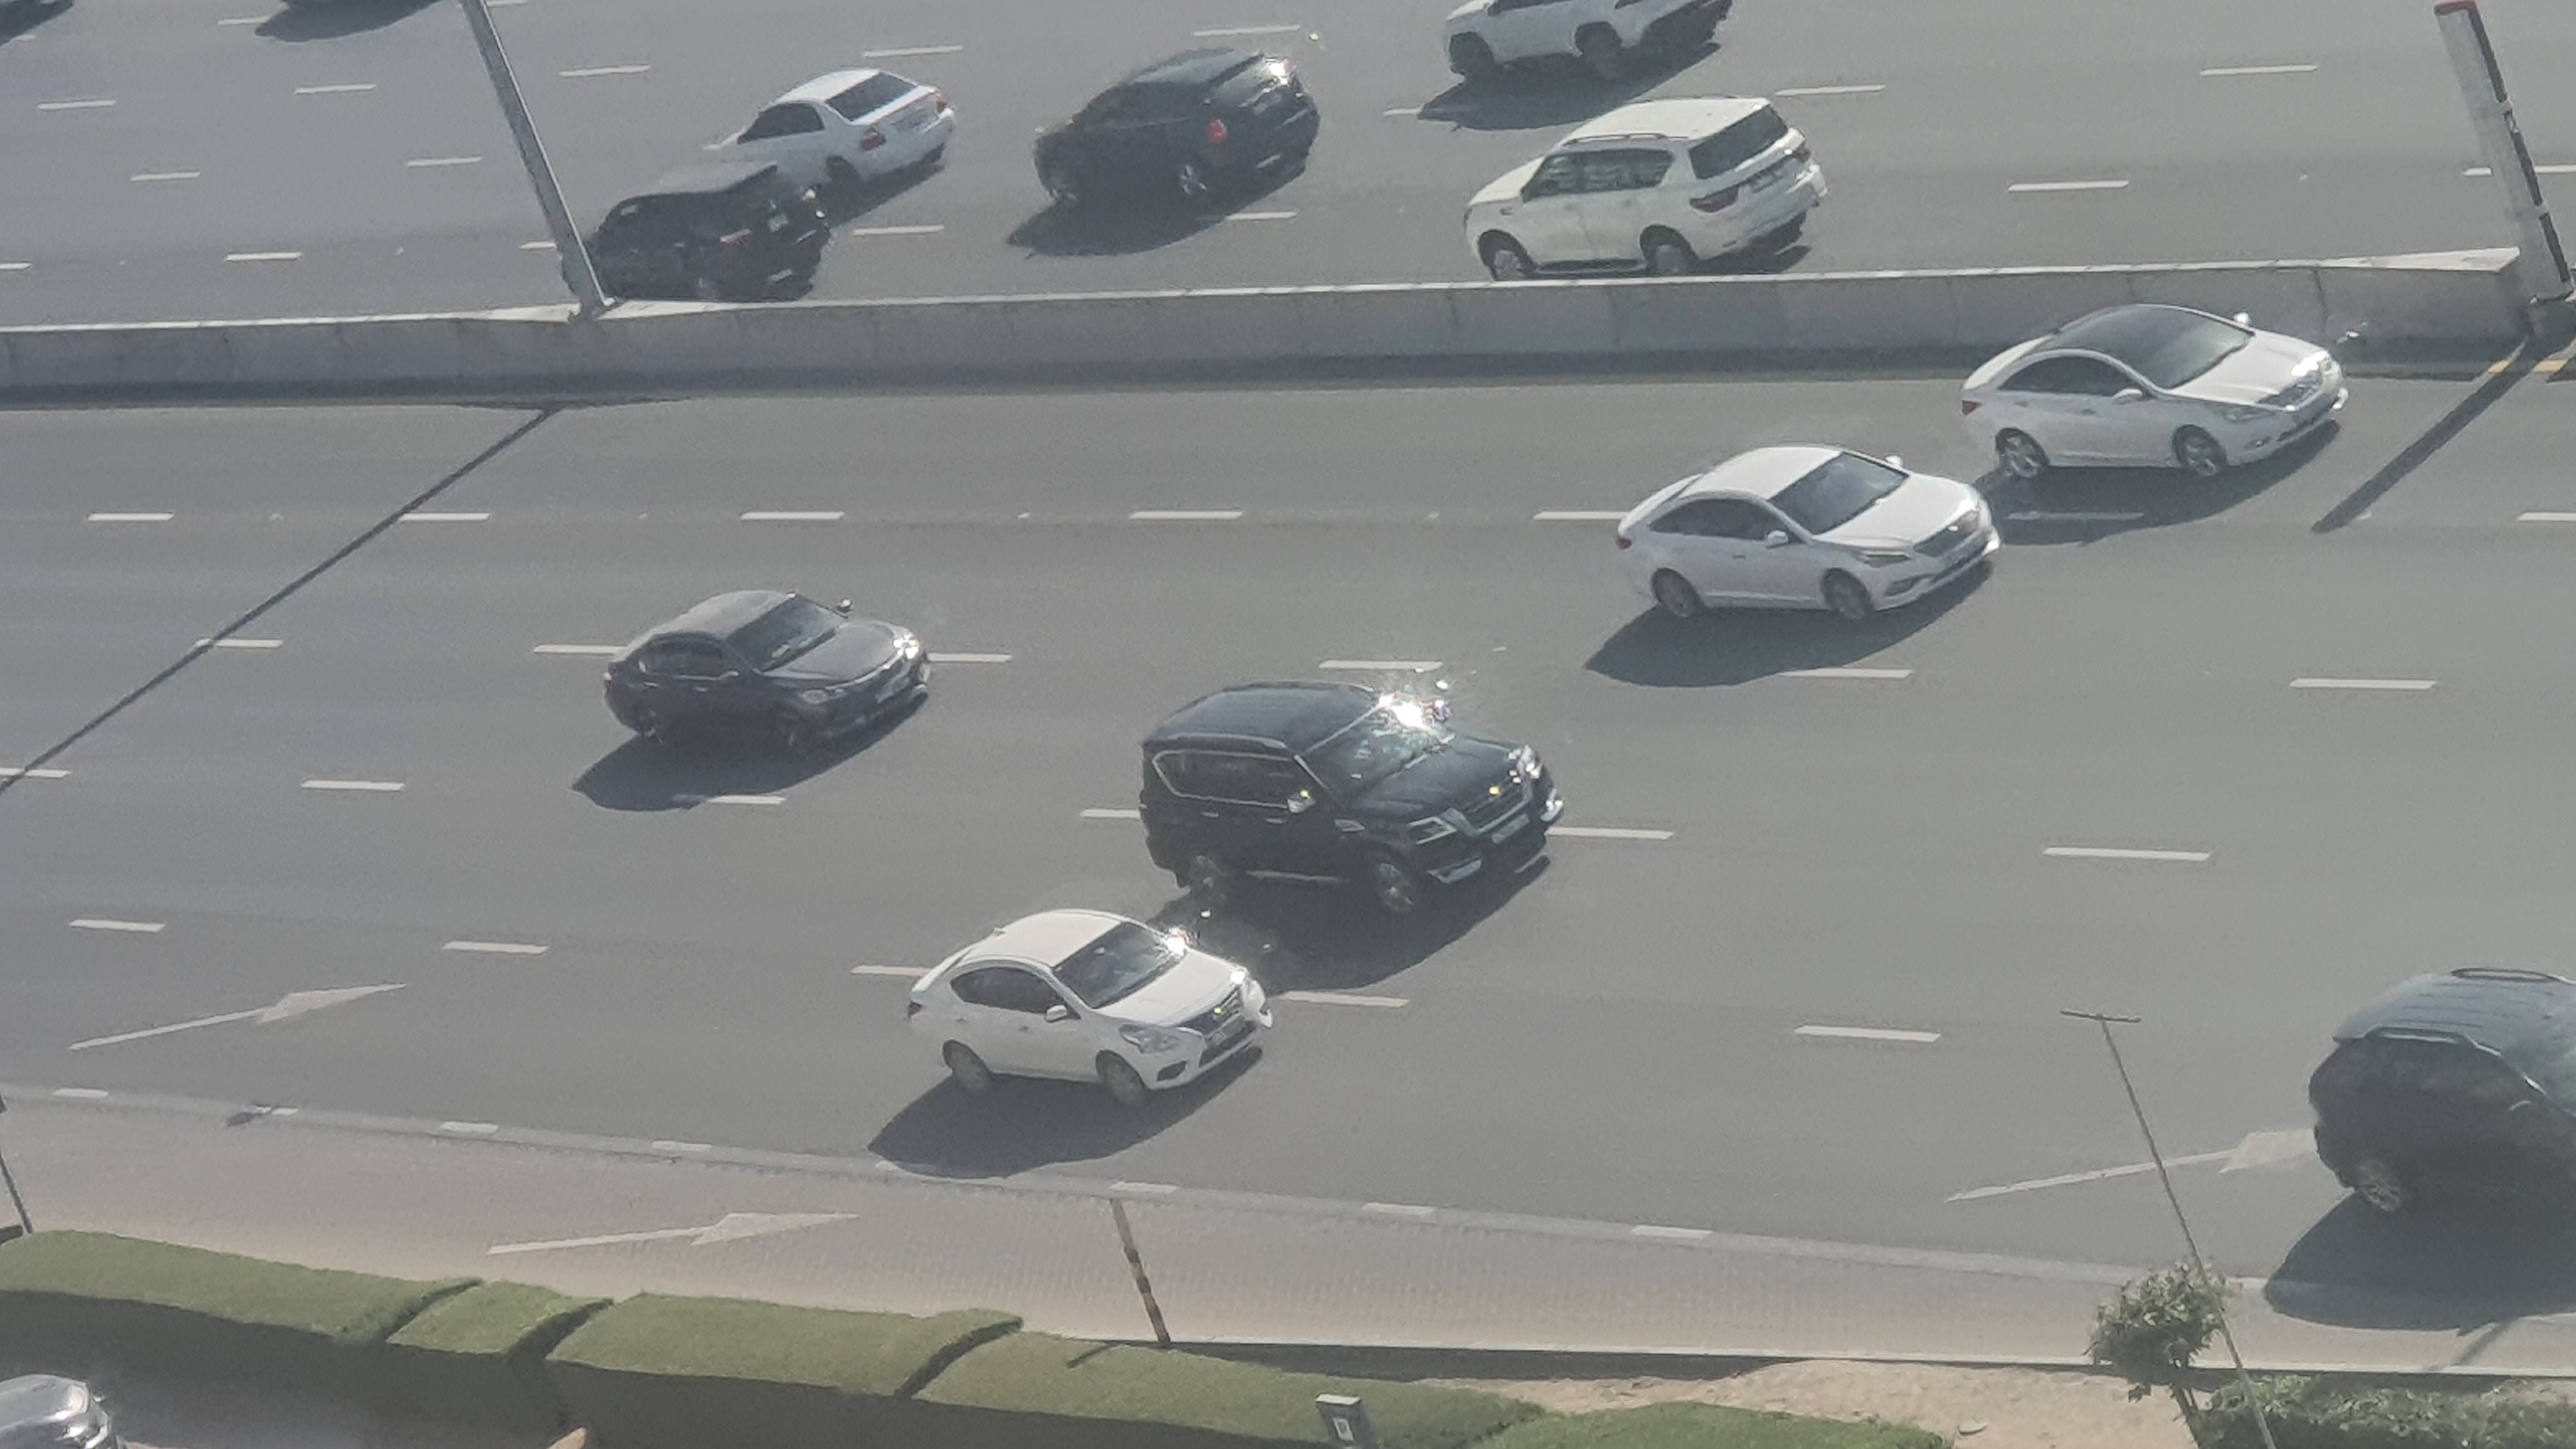NotSunroof: (1617, 430, 2001, 632), (916, 906, 1281, 1113), (2311, 961, 2576, 1233), (610, 594, 934, 766)
Sunroof: (1120, 672, 1559, 931), (1967, 299, 2355, 485)
